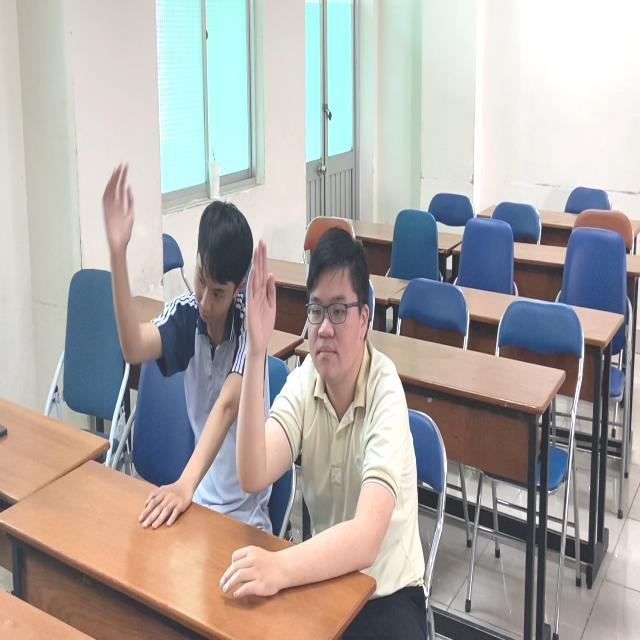raise_hand: (236, 221, 437, 601), (98, 159, 270, 531)
